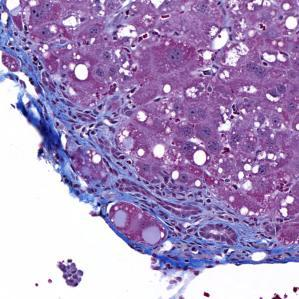fibrosis: (44, 102, 136, 193), (161, 191, 272, 260)
